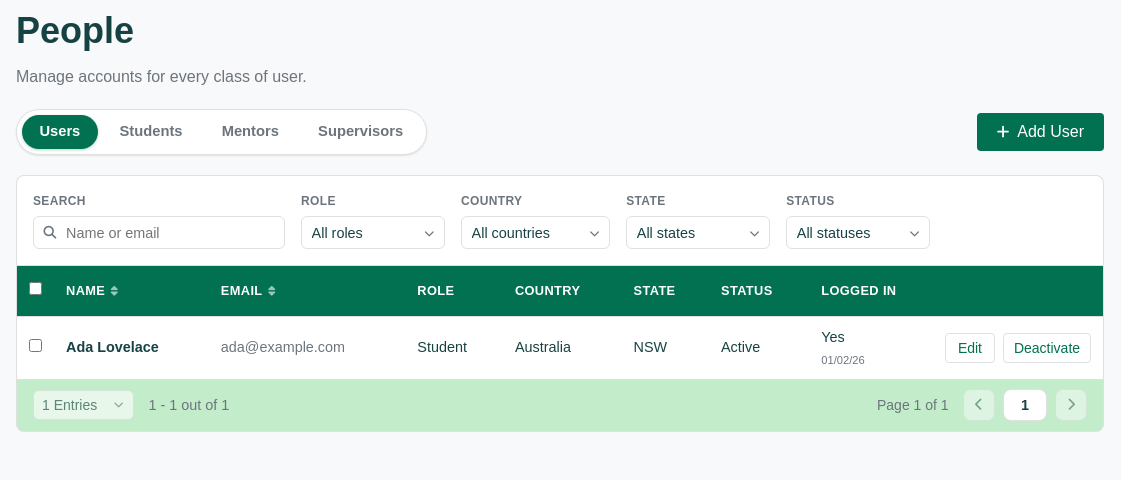
Test: AdminPeoplePage › switches to the Students tab
The image size is (1121, 480).
Step 1. Click the tab "Students" → (151, 132), box top-left (102, 115), bottom-right (200, 149)
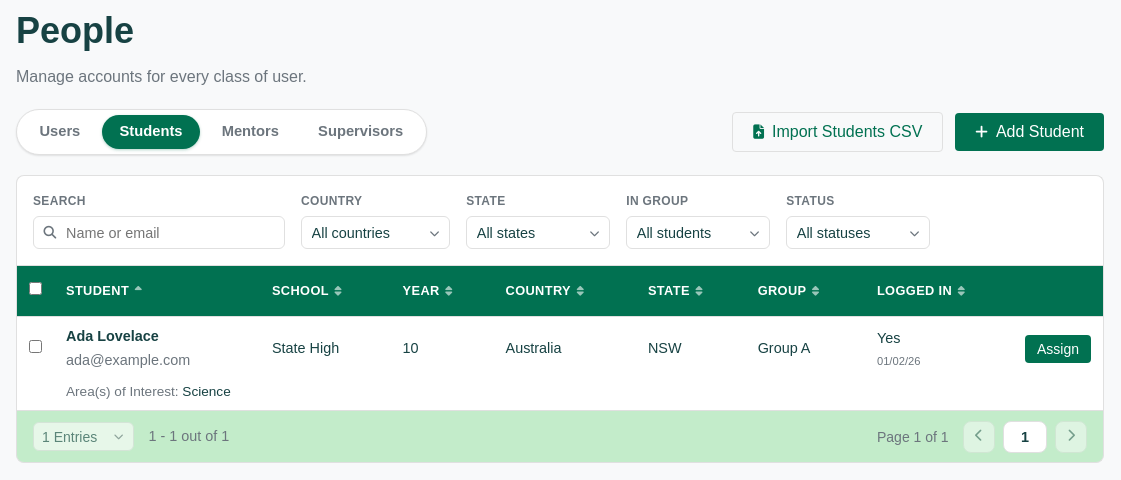
Check: the text "Ada Lovelace" is shown, box top-left (66, 325), bottom-right (159, 348)
Check: the text "Add Student" is shown, box top-left (996, 123), bottom-right (1084, 141)
